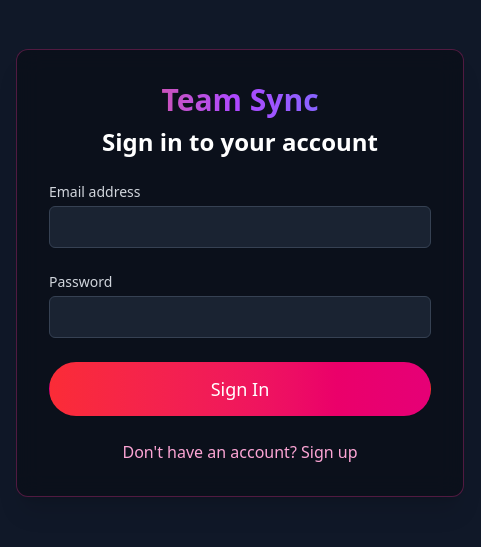
Scenario: Auth errors › displays error for invalid login
The width and height of the screenshot is (481, 547).
Type "wrong@example.com" into the field with test id "auth-email" at (240, 227), box x1=49 y1=206 x2=431 y2=248
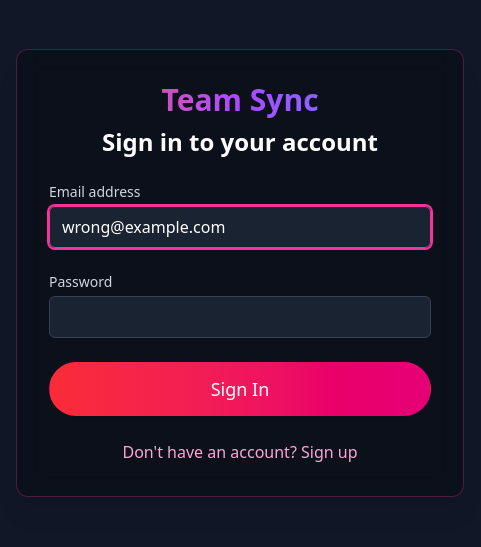
Type "badpass" into the password field with test id "auth-password" at (240, 317), box x1=49 y1=296 x2=431 y2=338
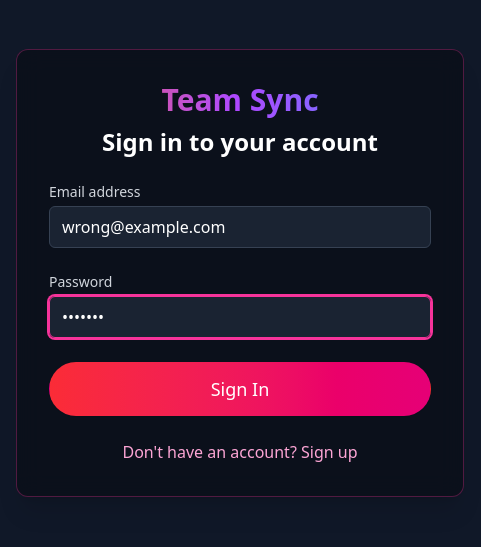
Click the button "Sign In" at (240, 389), box x1=49 y1=362 x2=431 y2=416
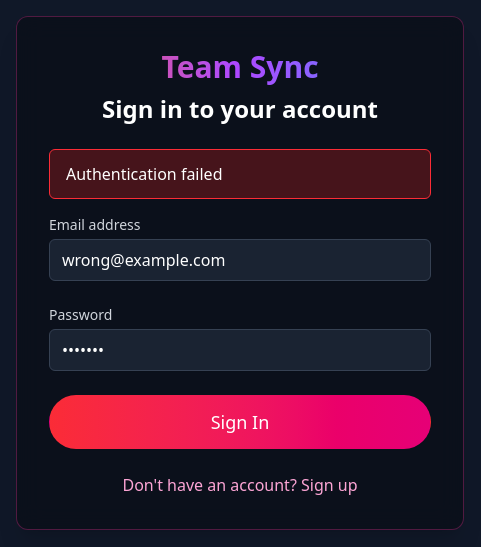
Now the text "Authentication failed" is shown, box x1=49 y1=149 x2=431 y2=199
